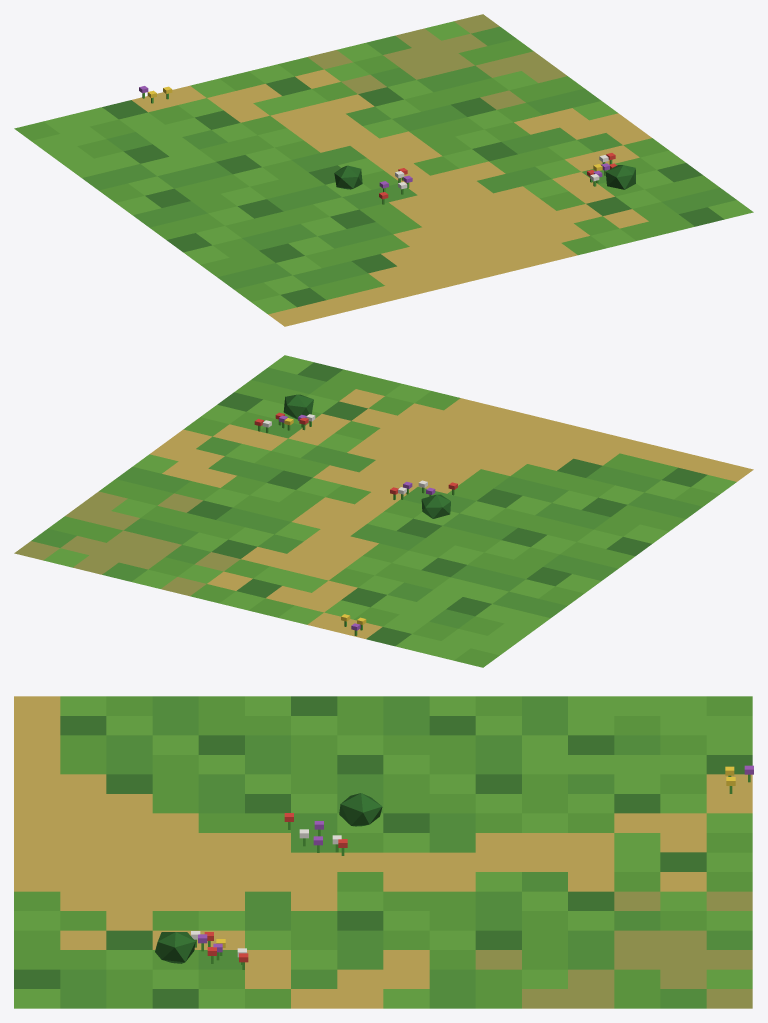
The model's file is chunk_9_7.glb.
The picture shows the model from 3 angles, top to bottom: view 1: azimuth 30°, elevation 25°; view 2: azimuth 150°, elevation 25°; view 3: azimuth 270°, elevation 25°; orthographic projection. The views are drawn at different scales.
Parts seen in each view (by area): view 1: chunk_9_7; view 2: chunk_9_7; view 3: chunk_9_7.
Part boxes in pixels (<box>): chunk_9_7: <box>14,14,753,326</box>; chunk_9_7: <box>14,355,753,667</box>; chunk_9_7: <box>14,696,753,1008</box>.
Size of the model in its own units: 16 by 0.8121 by 16.03.
